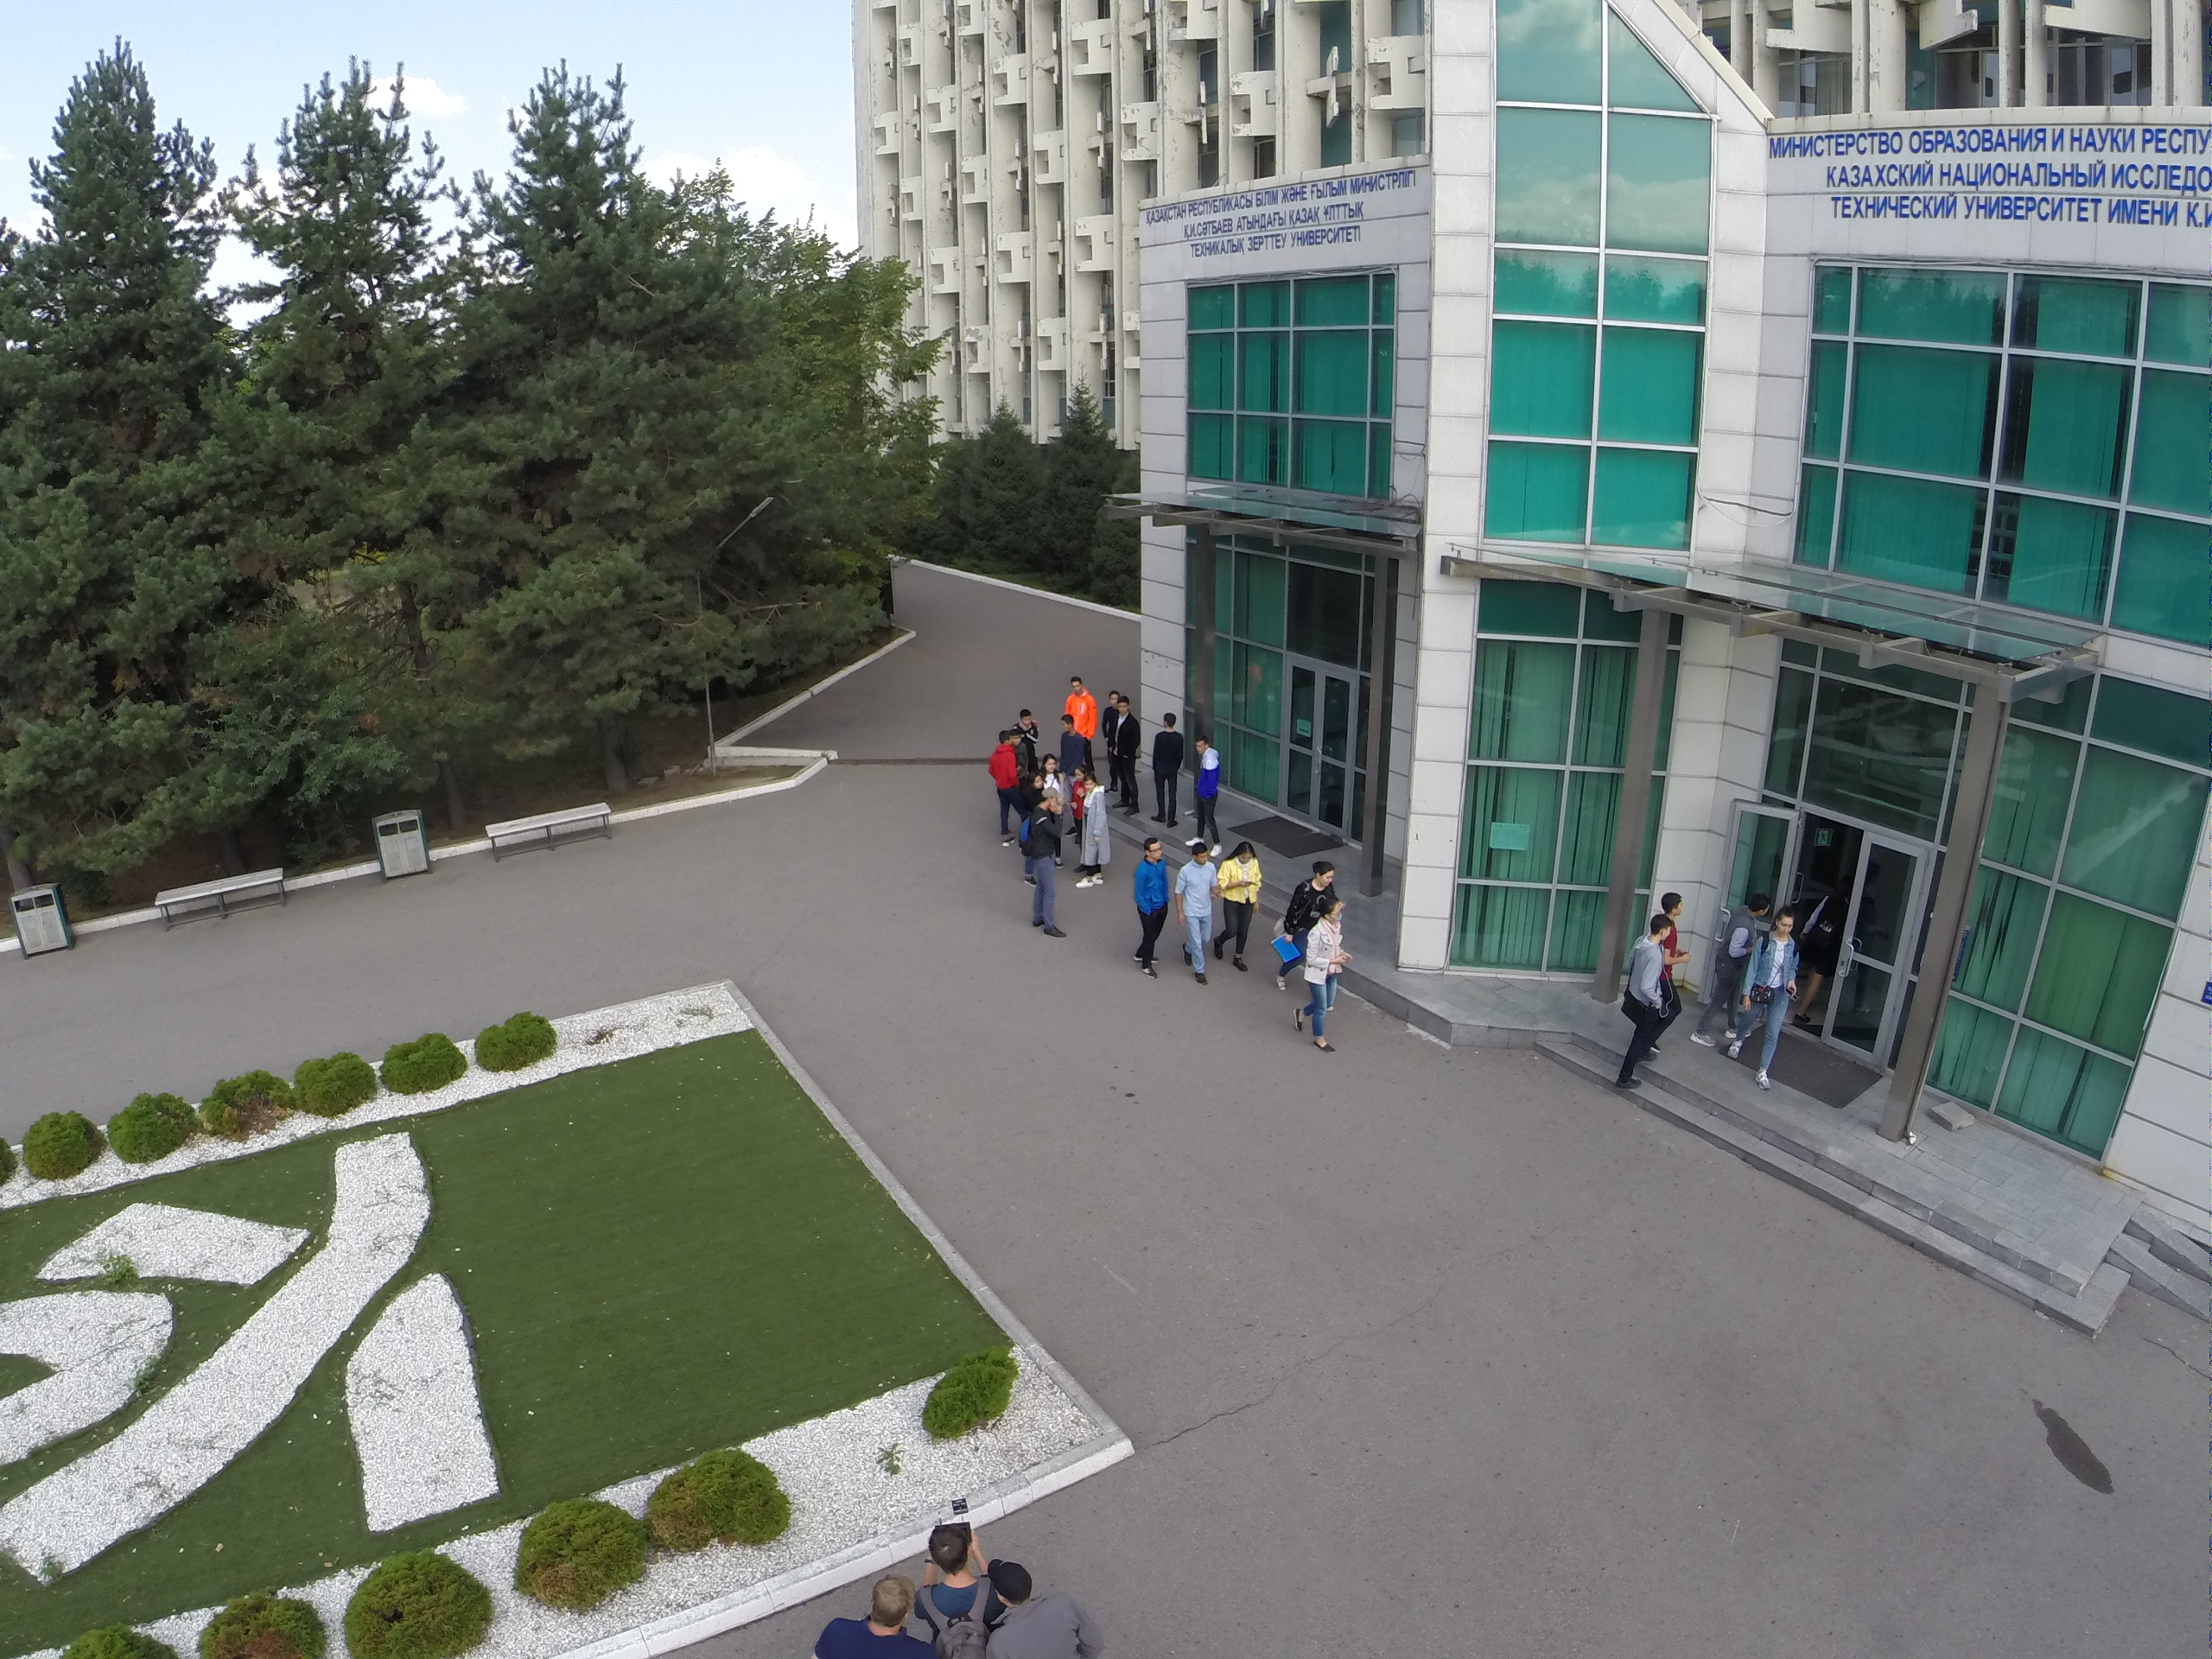person: (1736, 903, 1800, 1096), (1697, 888, 1772, 1050), (1615, 915, 1675, 1100), (1287, 897, 1347, 1059), (1278, 855, 1338, 988), (1025, 791, 1070, 940), (1128, 836, 1167, 984), (1179, 840, 1216, 988), (1226, 840, 1259, 976), (1151, 709, 1182, 829), (1109, 699, 1140, 817), (1078, 774, 1109, 888), (993, 728, 1017, 853), (1192, 734, 1221, 834), (1064, 674, 1096, 721), (1059, 715, 1084, 763), (1016, 707, 1038, 748), (1039, 754, 1063, 792)
